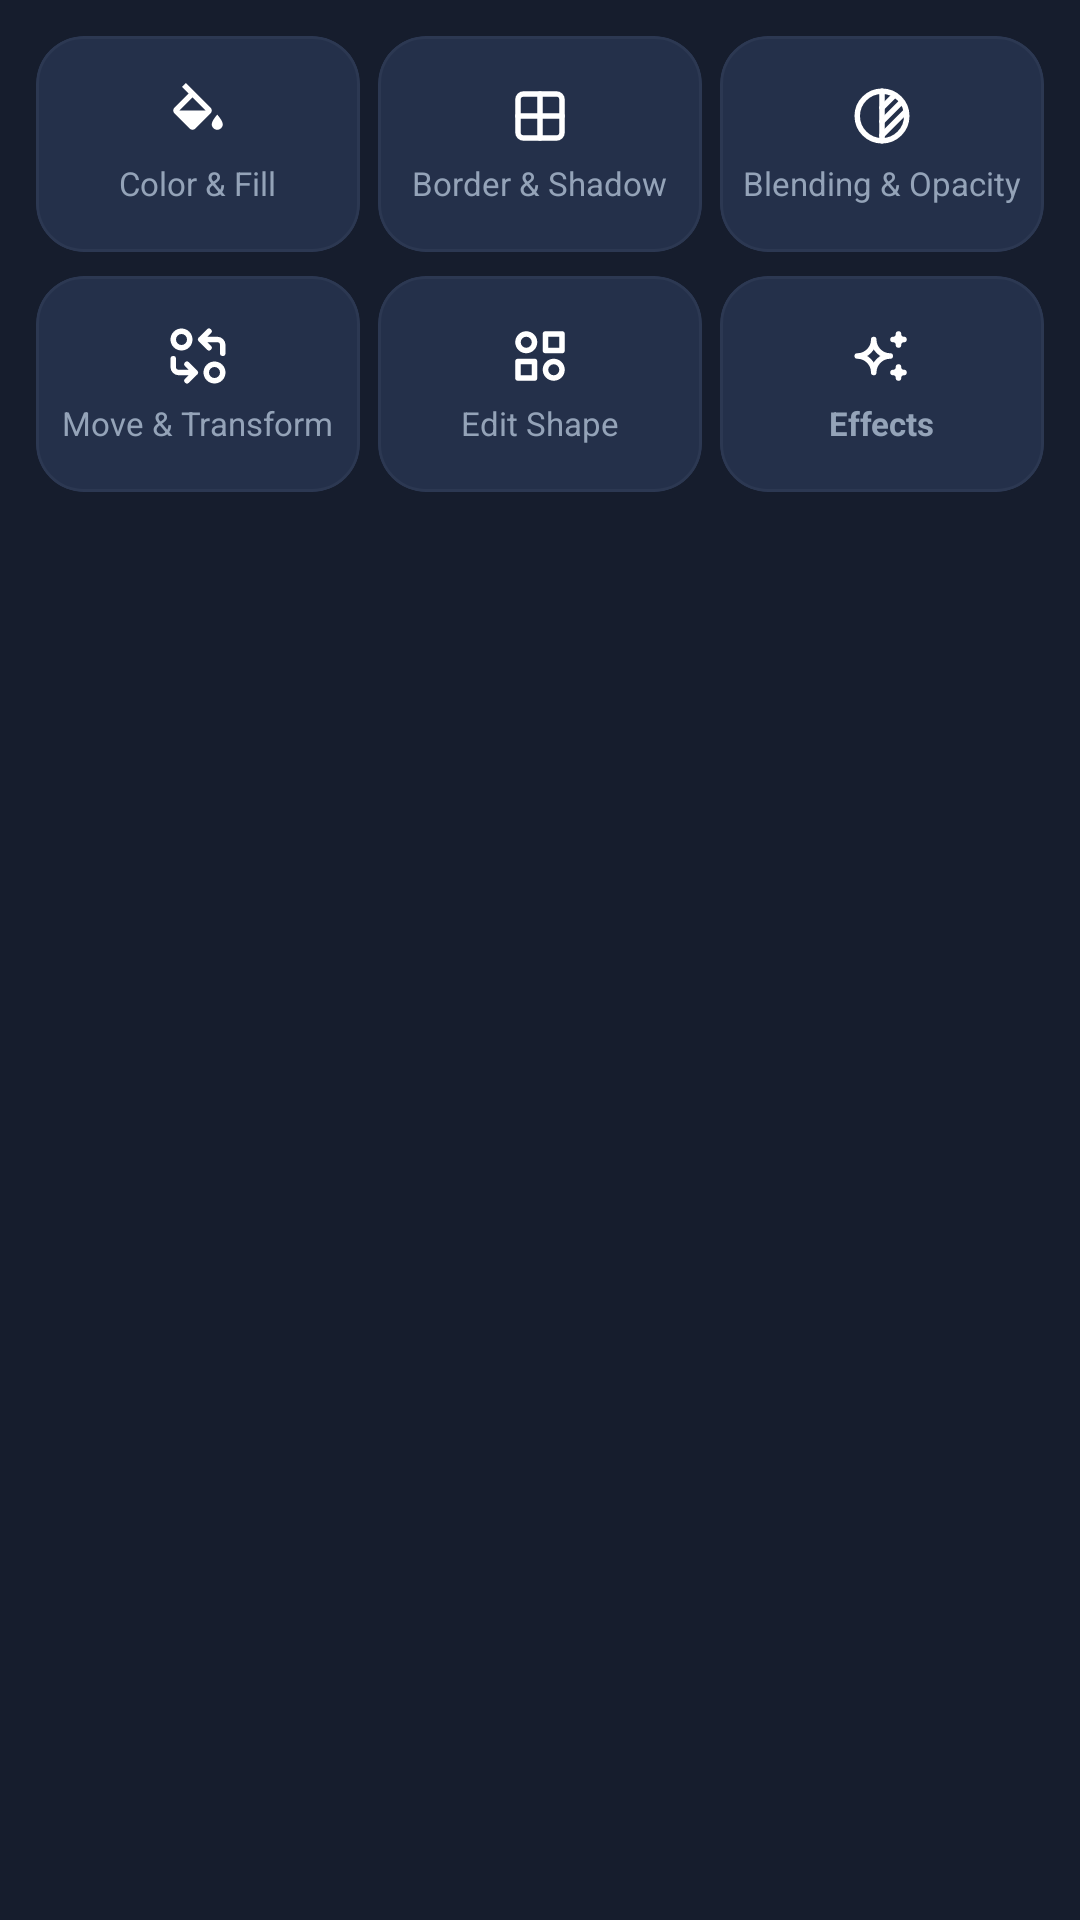

Locate icon controls on the screen. Image size 1080px x 1920px, boxes as (x1, y1, x2, y2).
tool: (173, 83, 223, 130)
